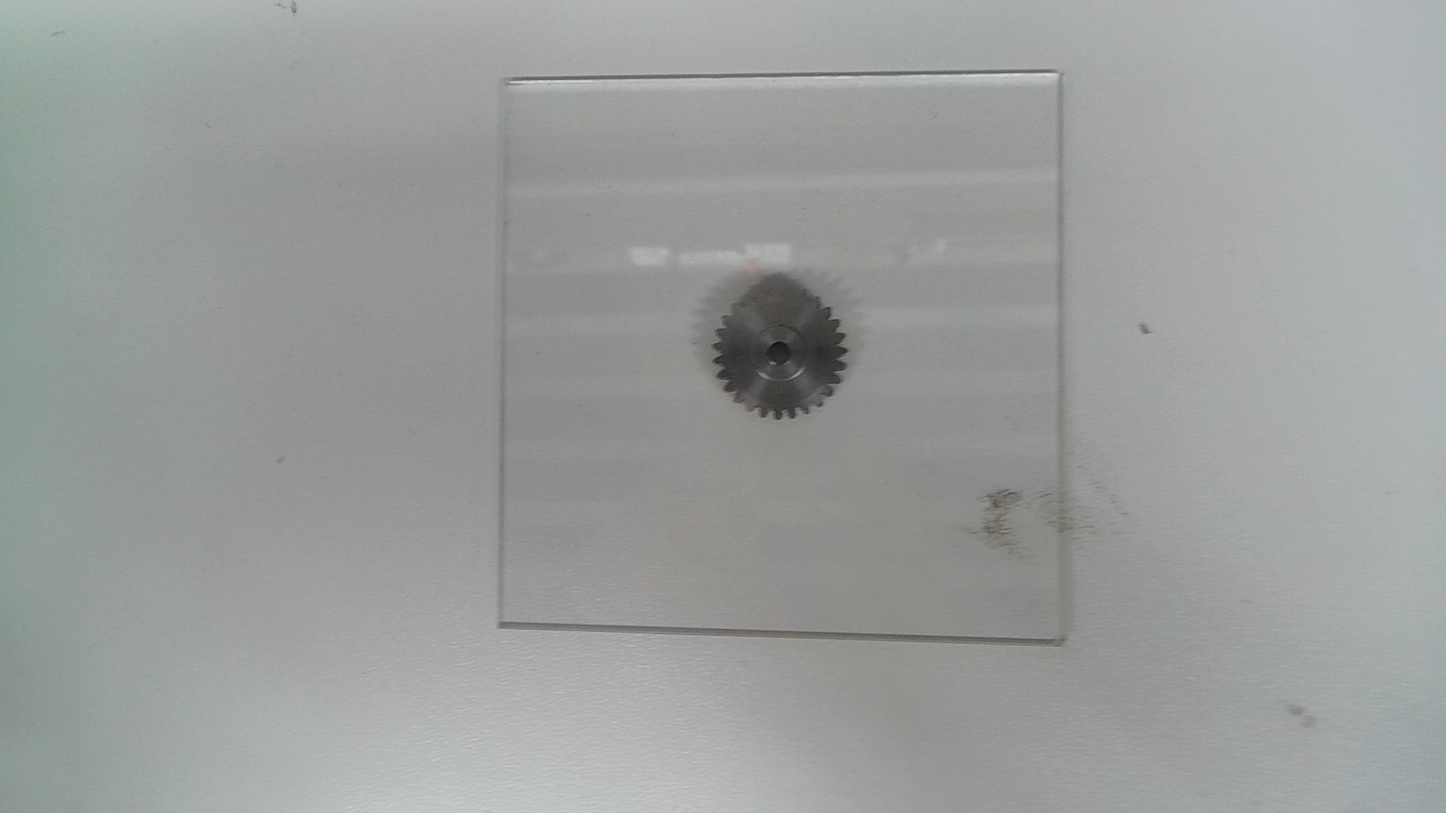gear: (712, 280, 850, 422)
